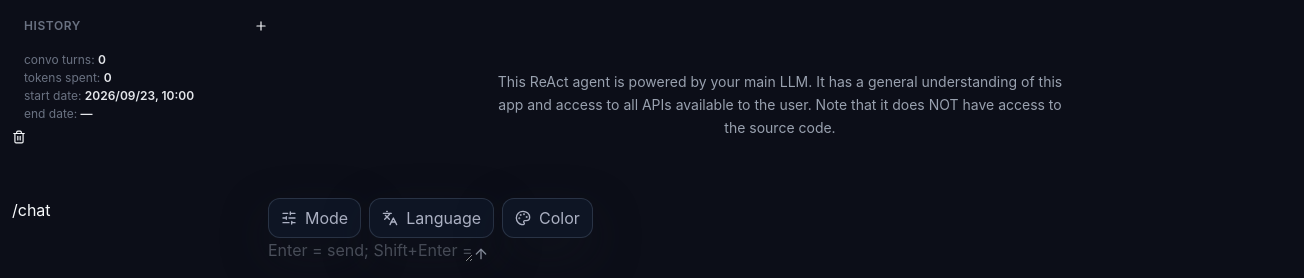
ChatPage conversation URL › moves the URL when a conversation is picked, and clears it on new
Expected: the text with test id "location" reads "/chat", x1=12 y1=200 x2=51 y2=220
Click the button with test id "chat-conversation": (109,87) x1=12 y1=44 x2=206 y2=130
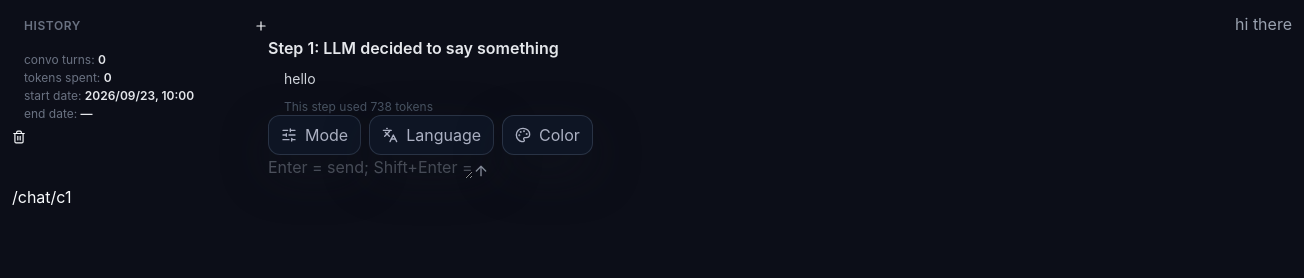
Now the text "hello" is shown, box x1=284 y1=70 x2=316 y2=87
Now the text with test id "location" reads "/chat/c1", box x1=12 y1=187 x2=72 y2=207
Click the button with test id "chat-new": (261,26) x1=254 y1=19 x2=268 y2=33
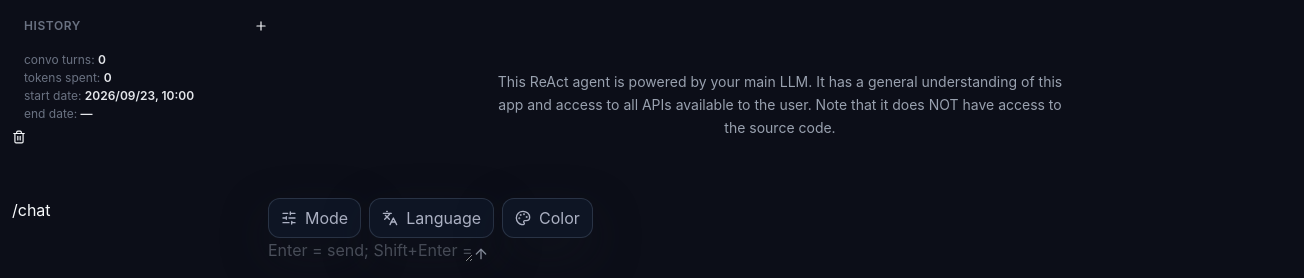
Now the element with test id "chat-empty" is shown, box x1=498 y1=73 x2=1062 y2=136
Now the text with test id "location" reads "/chat", box x1=12 y1=200 x2=51 y2=220
